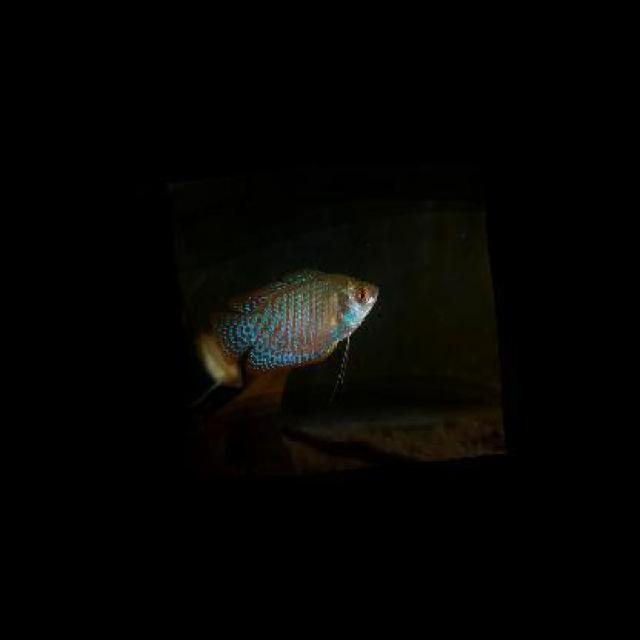Gourami: (213, 260, 381, 371)
